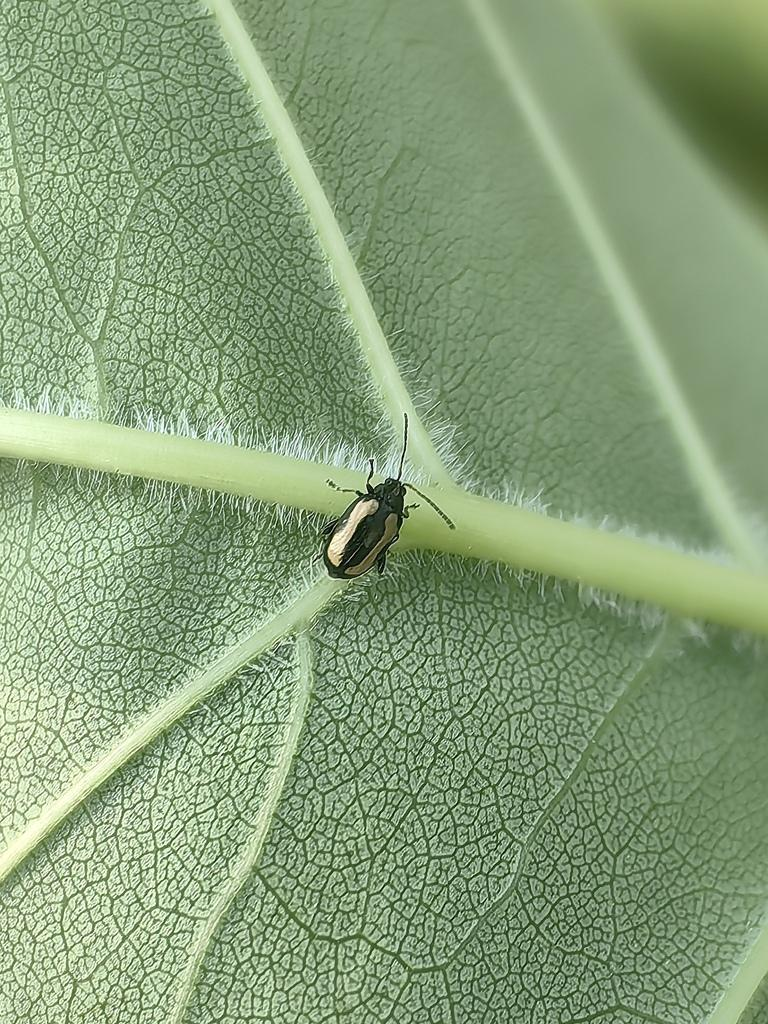flea_beetle: (259, 387, 497, 630)
